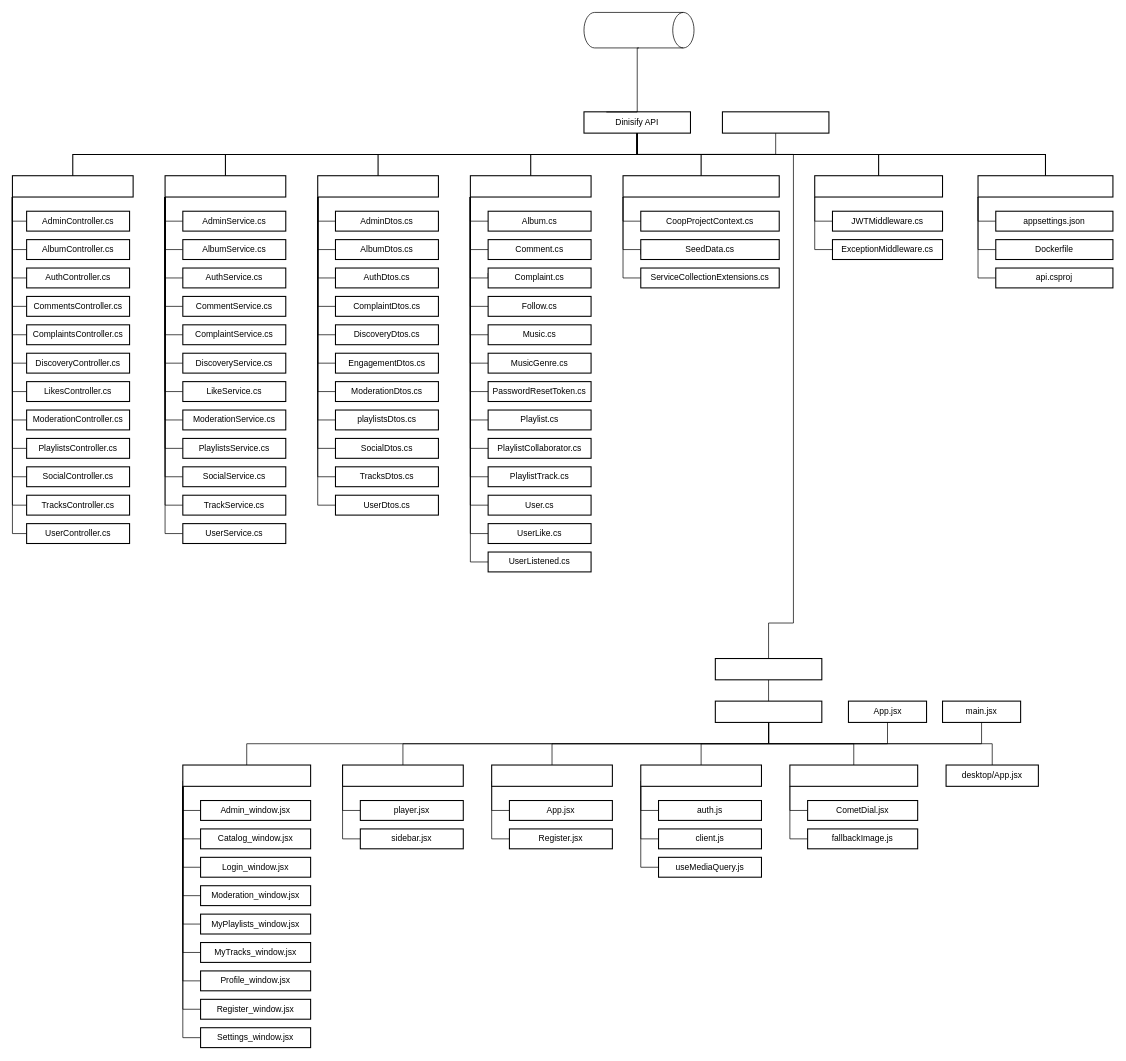
This 1126x1061 diagram has some shape labels left out. The centre of each missing label's shape, as x and y in pixels:
"Controllers" goes at (72,186).
"Data" goes at (700,186).
"desktop/components" goes at (402,775).
"desktop/views" goes at (246,775).
"DInisify Web" goes at (768,669).
"DTOs" goes at (378,186).
"Entities" goes at (530,186).
"Middleware" goes at (878,186).
"mobile" goes at (552,775).
"MySql бд" goes at (638,30).
"Program.cs" goes at (775,122).
"Services" goes at (225,186).
"shared/components" goes at (853,775).
"shared/hooks" goes at (701,775).
"src" goes at (768,711).
"Конфигурация" goes at (1045,186).
